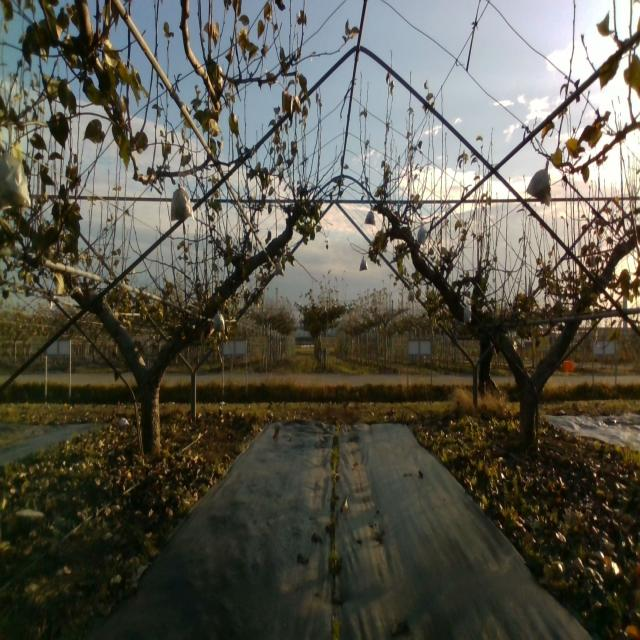pearbags: (0, 147, 33, 209), (525, 158, 551, 206), (170, 187, 193, 223), (211, 311, 225, 334), (364, 208, 376, 226), (417, 226, 427, 246)
